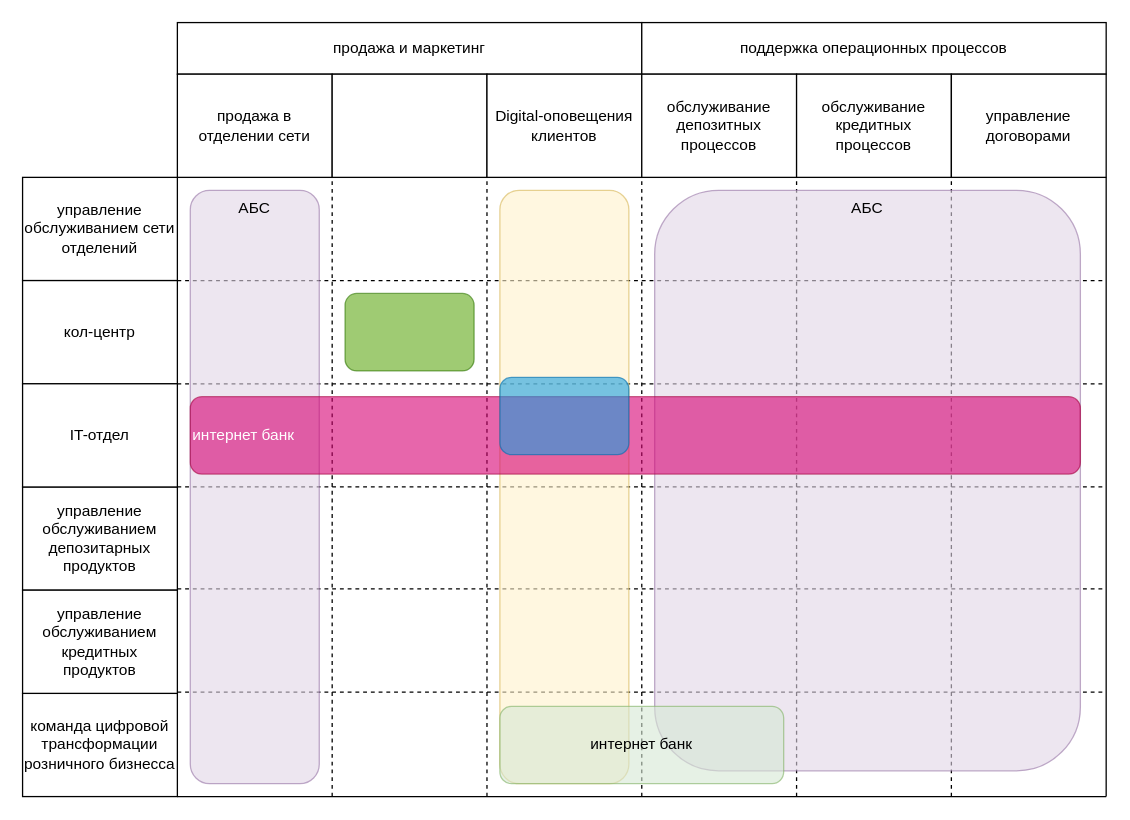
The diagram is 1130 pixels wide and 820 high, and some of its shapes have lost their labels. The centre of each missing label's shape, as x and y in pixels:
продажа через кол-центр: the point at 409,125
сайт: the point at 564,415
система кол-центра: the point at 409,331
СМС-шлюз телеком-оператора: the point at 564,486
